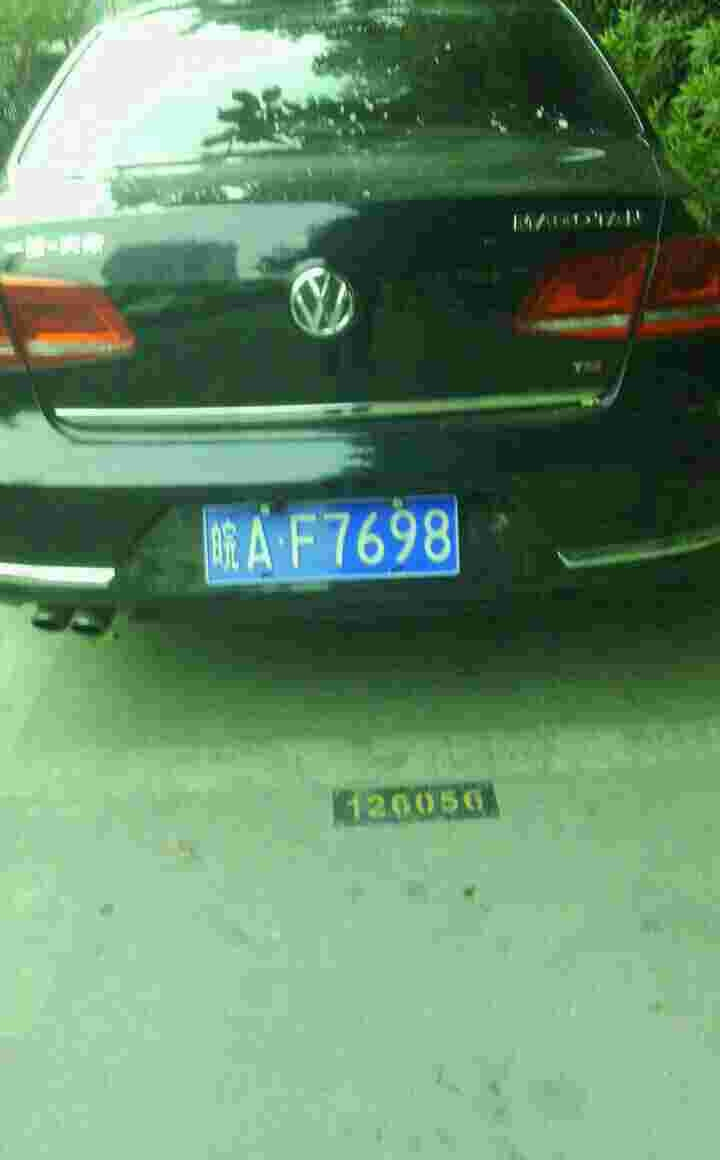plate: (203, 493, 467, 586)
